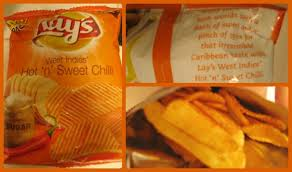plastic: (4, 2, 123, 171), (128, 6, 285, 83)
wrapper: (5, 6, 123, 168), (125, 3, 290, 84)
